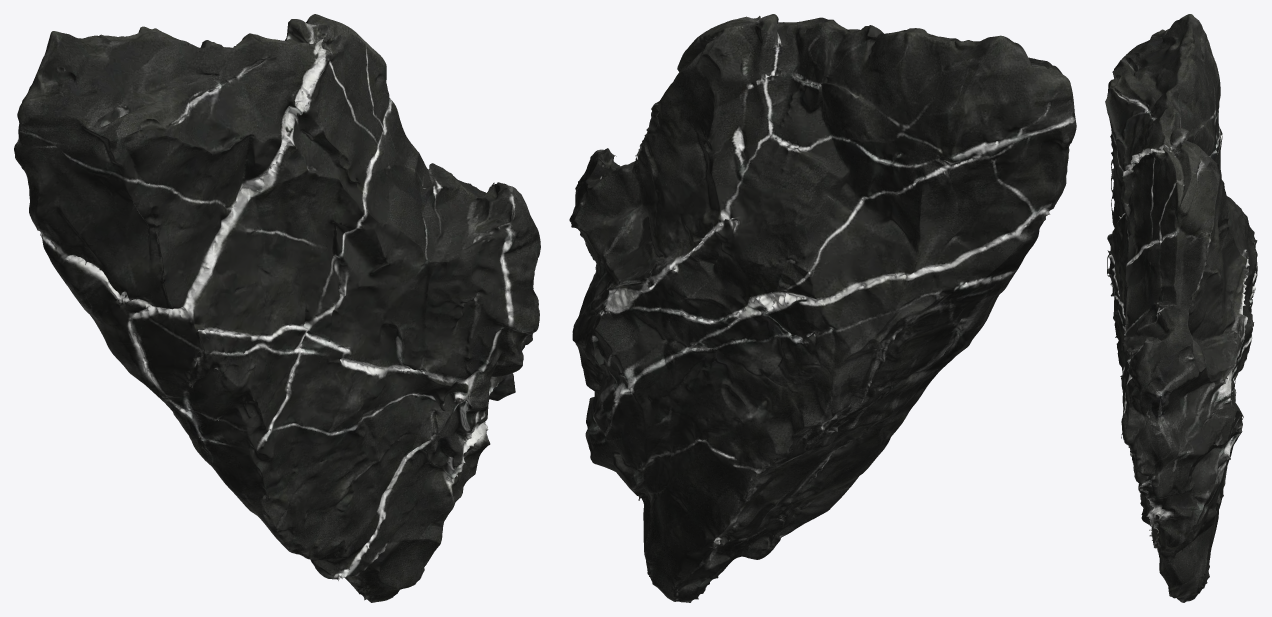
Rendered from stone-b.glb.
The picture shows the model from 3 angles, left to right: view 1: azimuth 30°, elevation 25°; view 2: azimuth 150°, elevation 25°; view 3: azimuth 270°, elevation 25°; orthographic projection. The views are drawn at different scales.
Bounding box in the file's own units: 1.66 × 2 × 0.586.
Materials: 1 (1 with a texture image).
